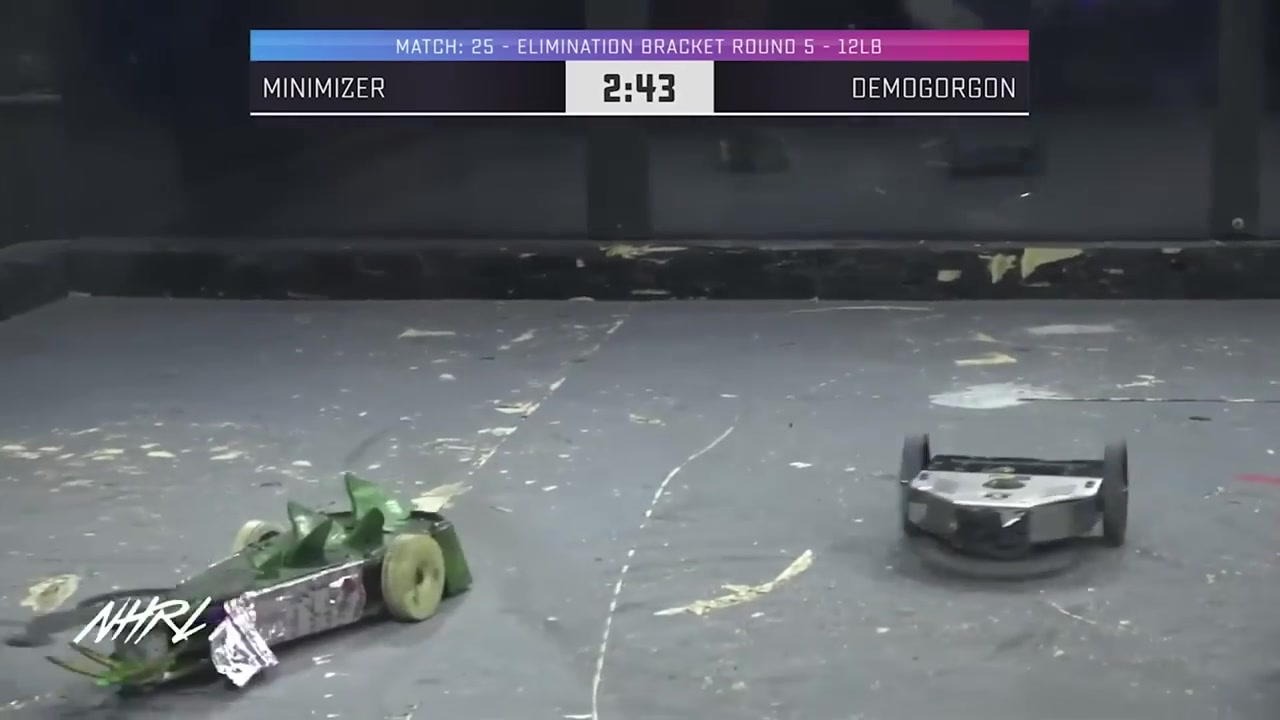combatbot: (24, 506, 468, 702), (897, 456, 1128, 557)
